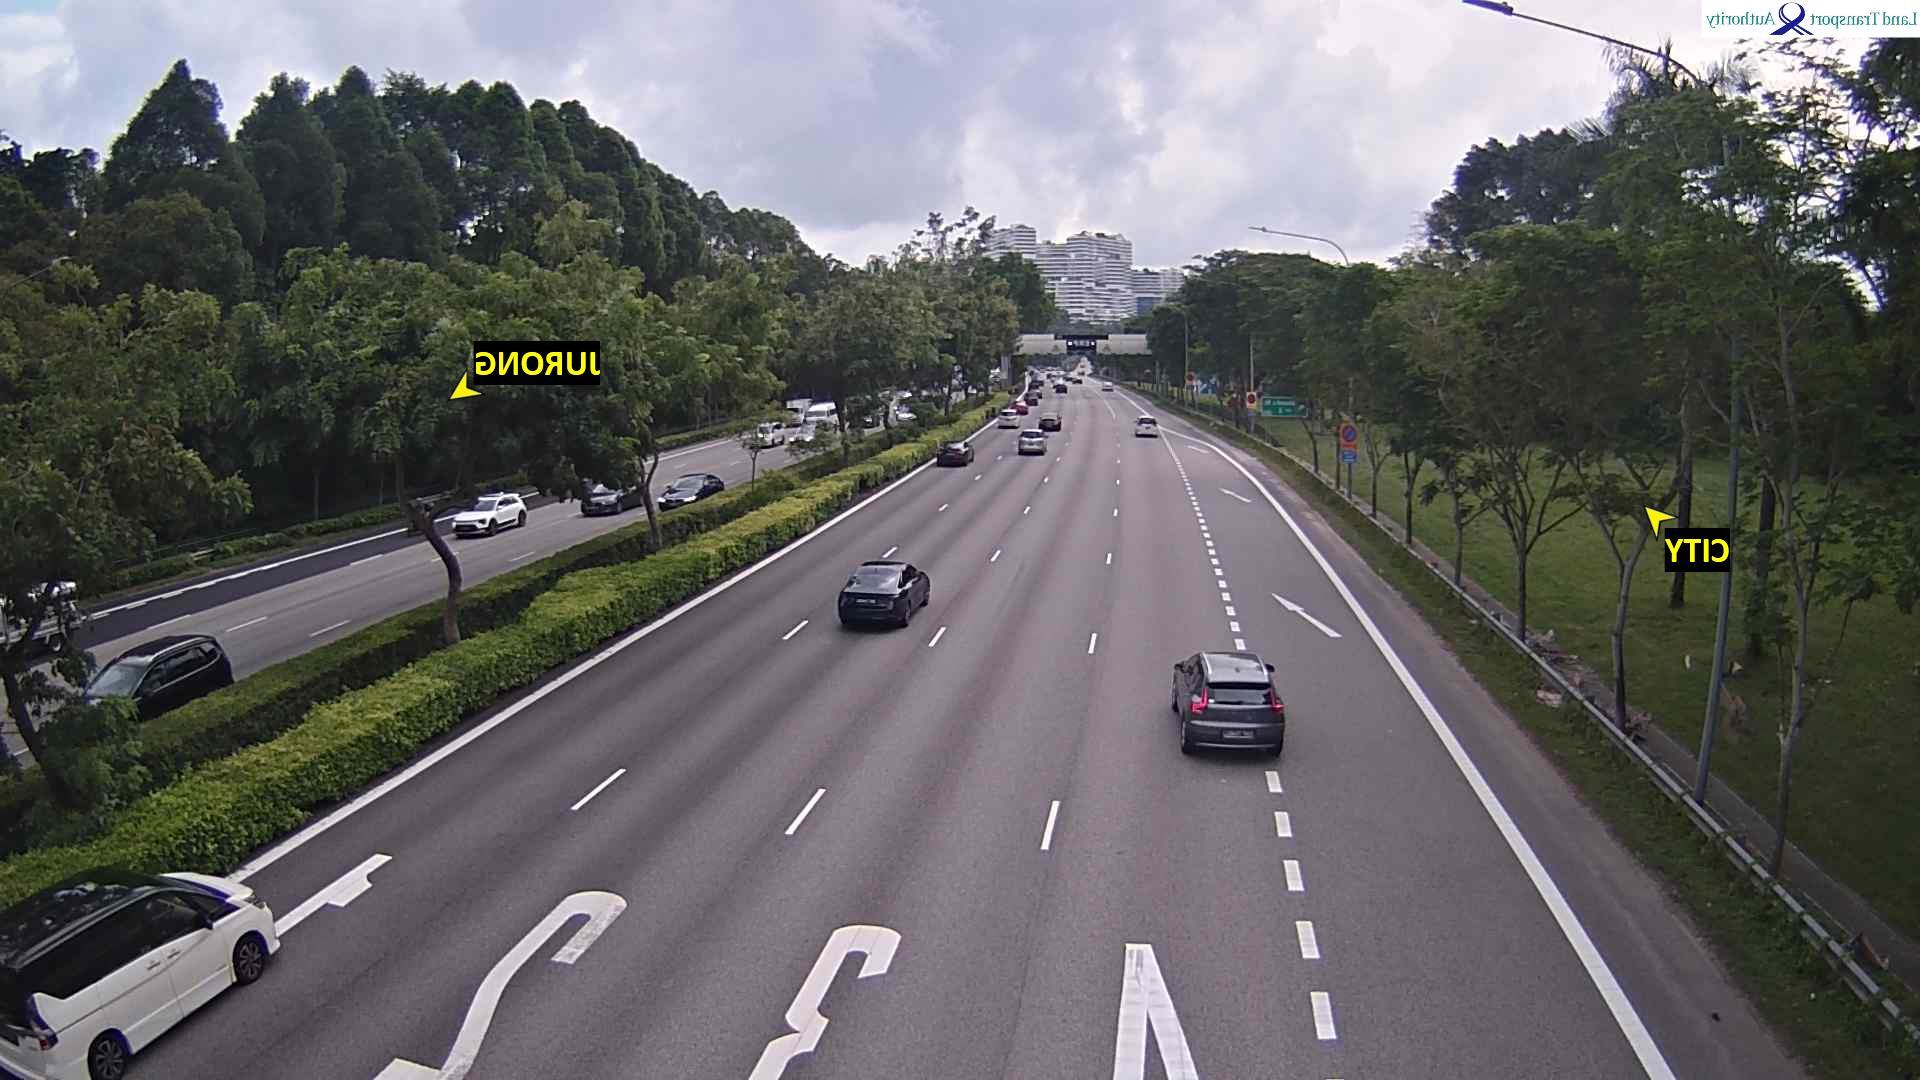incoming: (450, 493, 508, 535), (658, 476, 713, 516), (571, 484, 632, 517), (786, 423, 815, 444)
